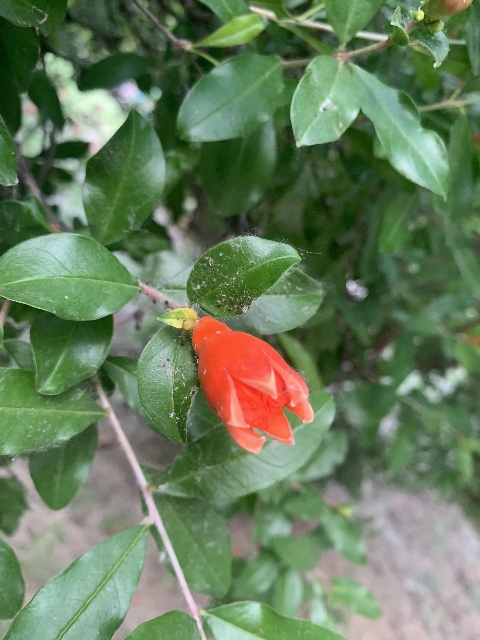flower: (192, 314, 313, 453)
